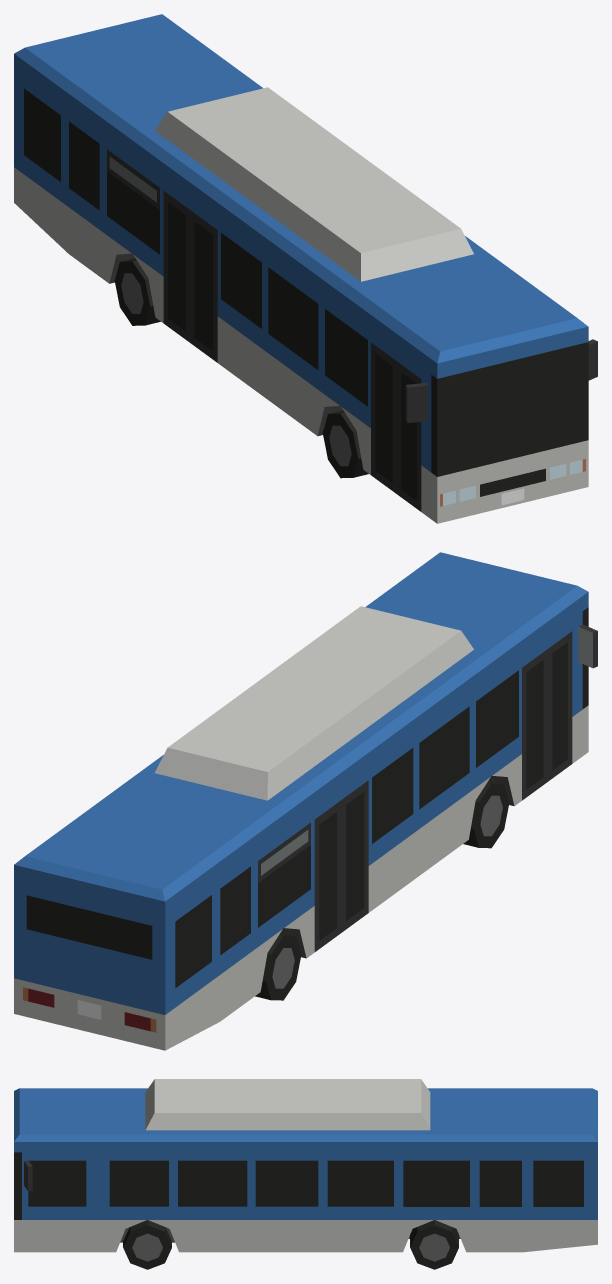
Rendered from Veh_Bus_01_Blue.obj.
The picture shows the model from 3 angles, top to bottom: view 1: azimuth 30°, elevation 25°; view 2: azimuth 150°, elevation 25°; view 3: azimuth 270°, elevation 25°; orthographic projection. The views are drawn at different scales.
Bounding box in the file's own units: 1.7 × 1.83 × 6.53.
